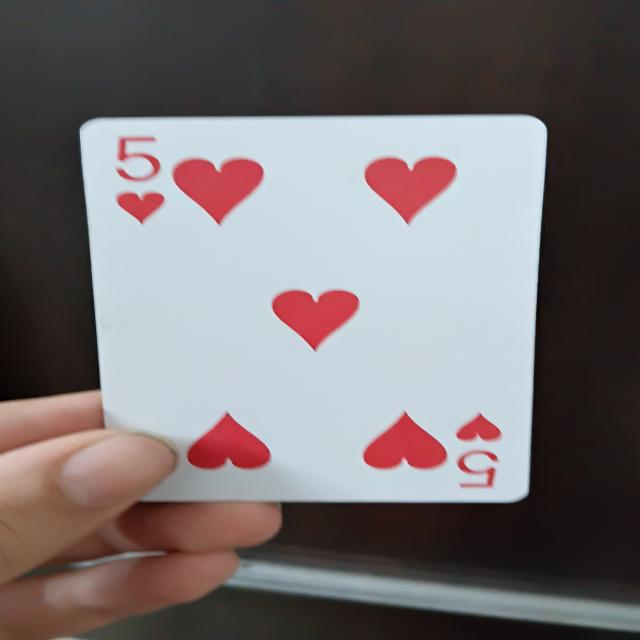5H: (76, 121, 544, 512)
